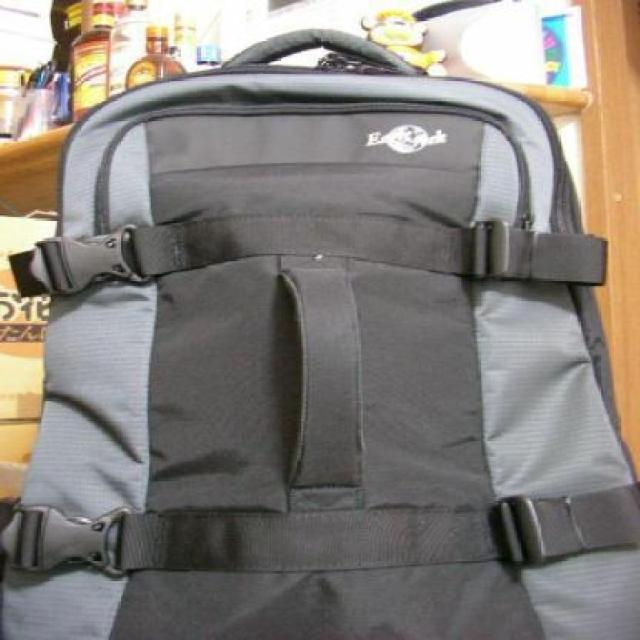backpack: (4, 21, 638, 640)
